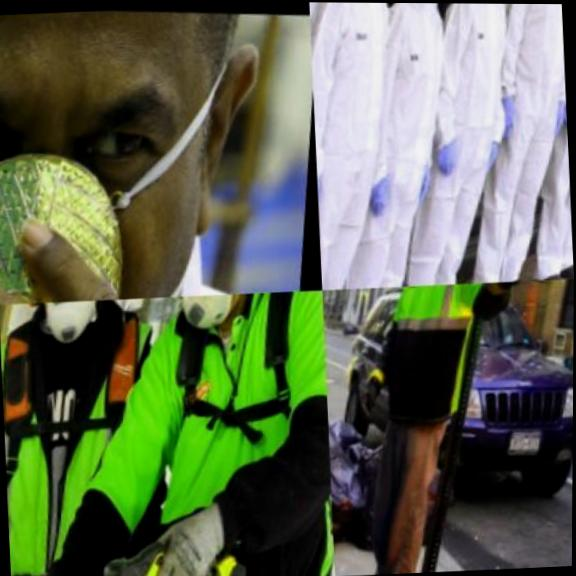safety_vest: (0, 295, 178, 576), (321, 2, 474, 289), (386, 3, 539, 286), (455, 3, 575, 276), (308, 2, 422, 289), (375, 281, 501, 434), (531, 4, 574, 257)
